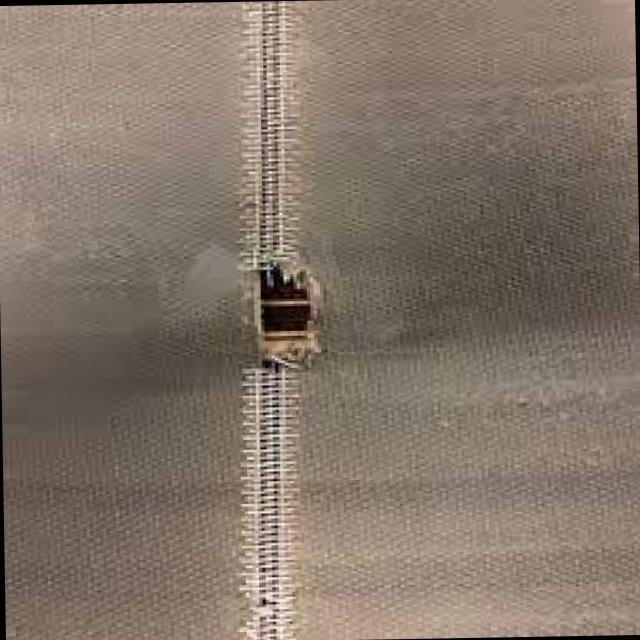Hole: (240, 248, 332, 380)
